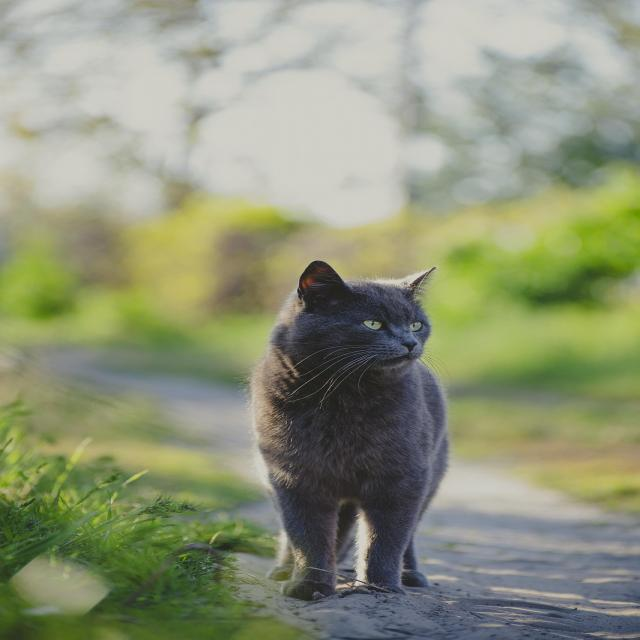cat: (246, 260, 450, 598)
